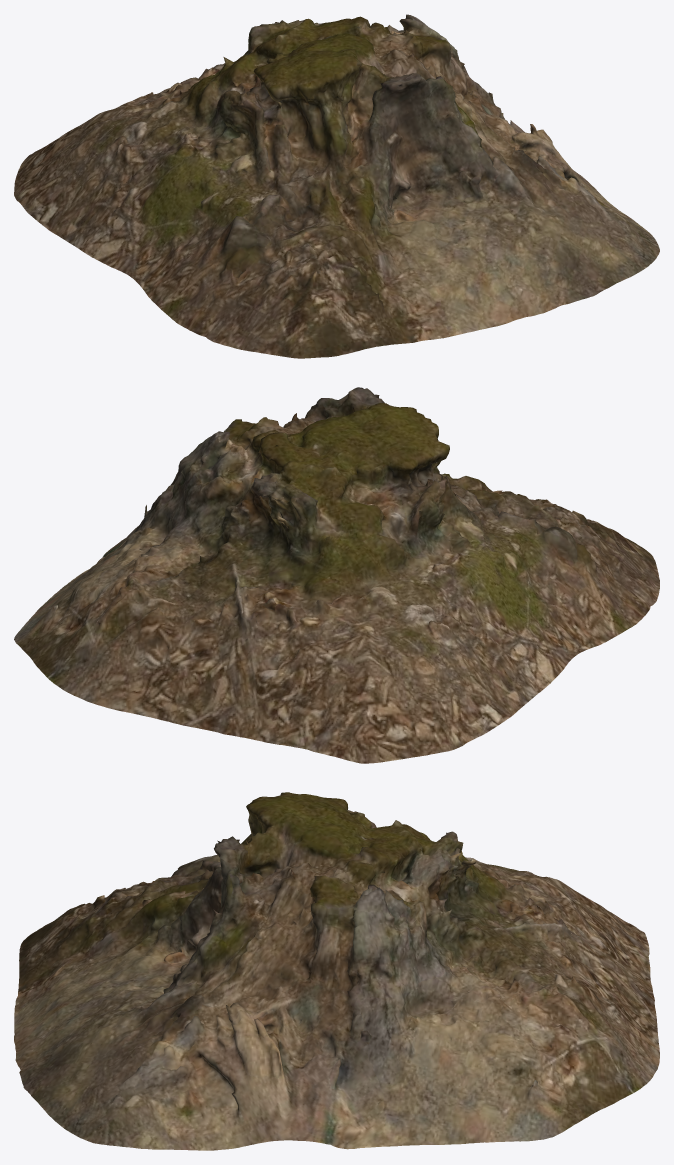
Rendered from tree_stump_01.glb.
3 views of the same model, one above another, from view 1: azimuth 30°, elevation 25°; view 2: azimuth 150°, elevation 25°; view 3: azimuth 270°, elevation 25° (orthographic). The views are drawn at different scales.
Visible parts, largest first — view 1: tree_stump_01; view 2: tree_stump_01; view 3: tree_stump_01.
Part boxes in pixels (<box>): tree_stump_01: <box>14,14,659,358</box>; tree_stump_01: <box>14,387,659,763</box>; tree_stump_01: <box>14,792,659,1150</box>.
Bounding box in the file's own units: 1.43 × 0.5726 × 1.59.
1 material, 1 textured.
